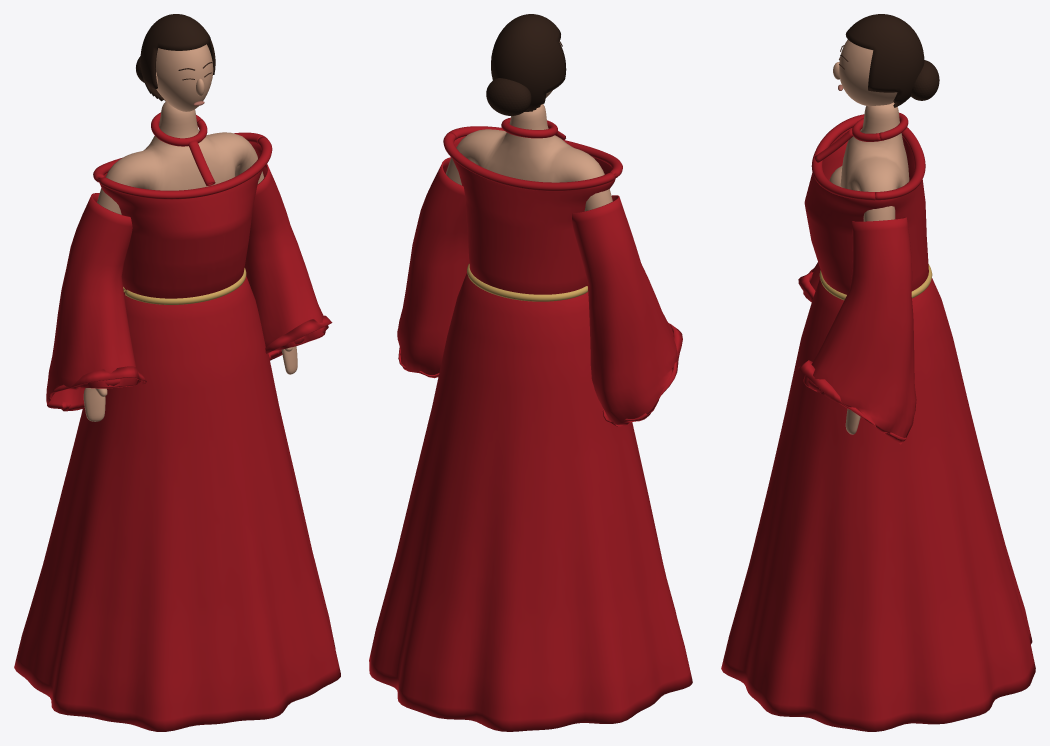
Rendered from kaftan-model-05.glb.
3 views of the same model, side by side, from view 1: azimuth 30°, elevation 25°; view 2: azimuth 150°, elevation 25°; view 3: azimuth 270°, elevation 25° (orthographic).
Visible parts, largest first — view 1: Kaftan, Body, Hair; view 2: Kaftan, Body, Hair; view 3: Kaftan, Body, Hair.
Boxes of the visible parts, x1,y1,x2,y2 form: Kaftan: (14,112,340,731); Body: (83,44,297,421); Hair: (136,14,215,101); Kaftan: (369,118,692,731); Body: (446,41,612,211); Hair: (486,14,566,115); Kaftan: (721,112,1035,731); Body: (829,39,909,434); Hair: (845,14,939,107).
Size of the model in its own units: 0.7922 by 1.75 by 0.7549.
Materials: 4 (4 with a texture image).
